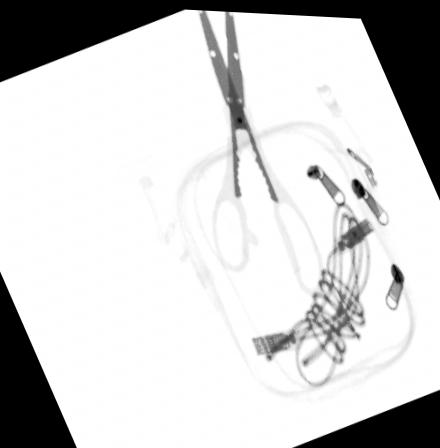Scissors: (199, 8, 329, 292)
